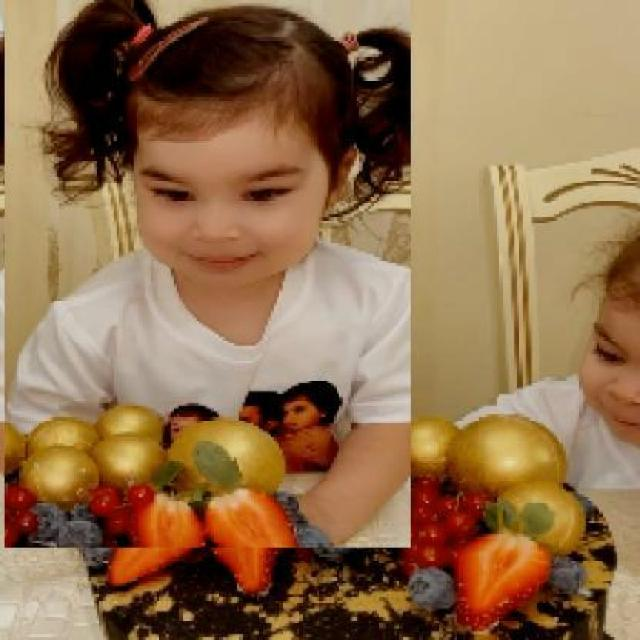child: (3, 0, 411, 549)
